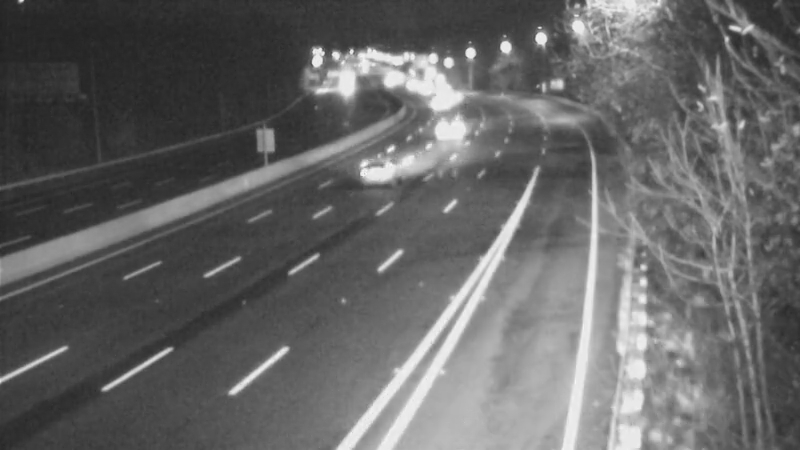vehicle: (346, 125, 426, 205), (396, 63, 446, 113), (420, 63, 470, 113), (414, 77, 464, 127), (426, 100, 476, 150)
